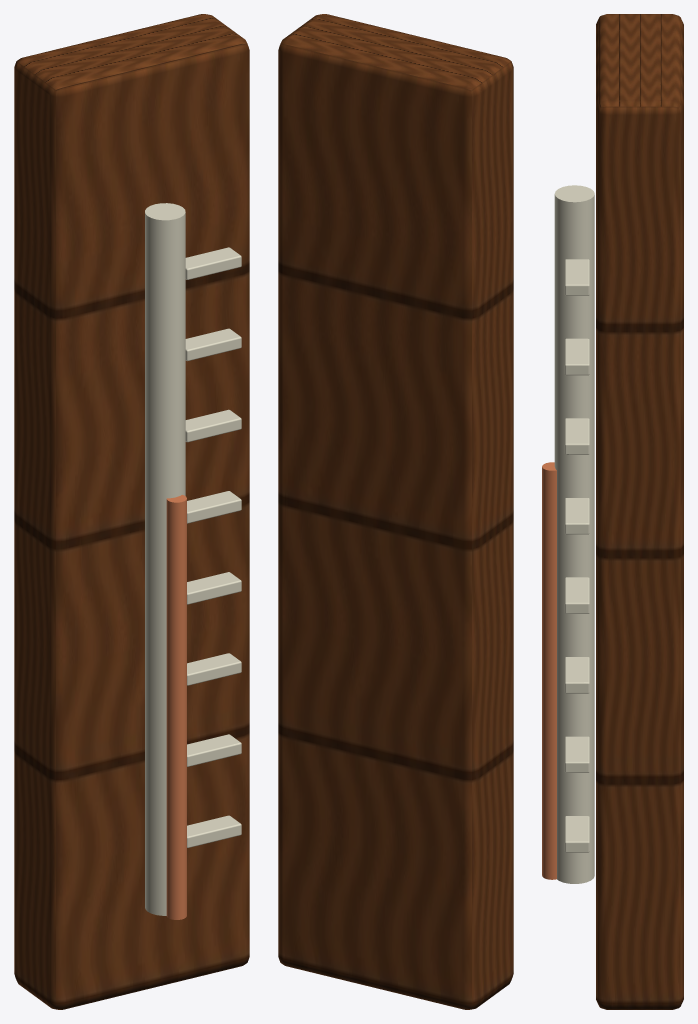
File: creature-husbandry-and-transport-incubation-thermomete-f9aa98e8__24011.glb
3 renders of one model, left to right at view 1: azimuth 30°, elevation 25°; view 2: azimuth 150°, elevation 25°; view 3: azimuth 270°, elevation 25°, orthographic. The views are drawn at different scales.
Visible parts, largest first — view 1: incubation-thermometer; view 2: incubation-thermometer; view 3: incubation-thermometer.
Part boxes in pixels (bbox=[...]): incubation-thermometer: bbox=[14, 14, 249, 1009]; incubation-thermometer: bbox=[278, 14, 513, 1009]; incubation-thermometer: bbox=[542, 14, 683, 1009].
Bounding box in the file's own units: 0.09 × 0.4 × 0.0565.
Materials: 3 (1 with a texture image).
